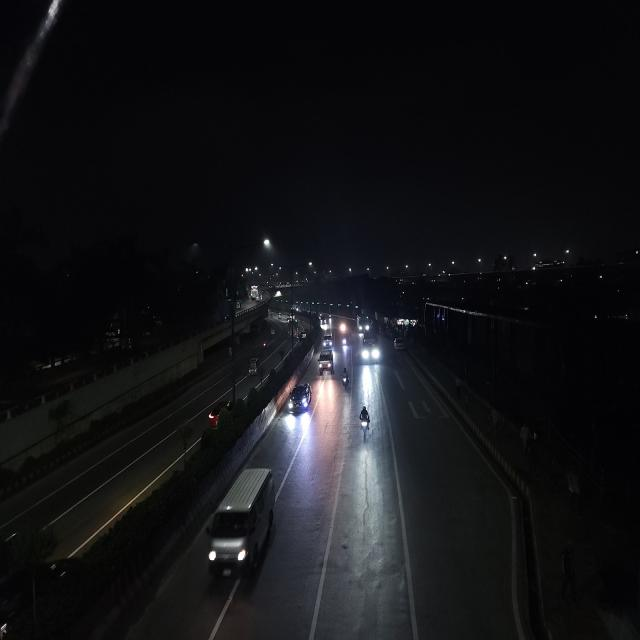bus: (360, 326, 381, 365)
car: (203, 462, 279, 589), (204, 395, 234, 432), (287, 381, 313, 418), (317, 348, 335, 375), (392, 334, 405, 353), (322, 332, 334, 349)
cng: (246, 354, 262, 378)
motorcycle: (357, 401, 373, 443), (340, 365, 352, 393), (260, 336, 270, 351)
